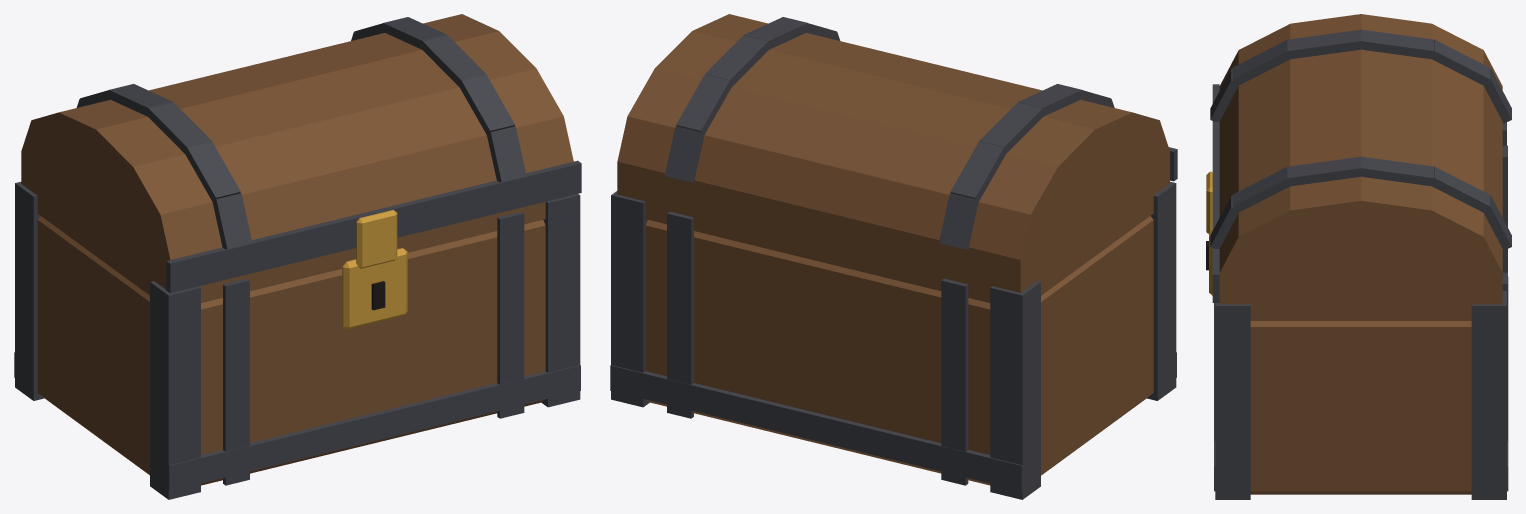
Rendered from env_chest.glb.
3 views of the same model, side by side, from view 1: azimuth 30°, elevation 25°; view 2: azimuth 150°, elevation 25°; view 3: azimuth 270°, elevation 25° (orthographic). The views are drawn at different scales.
Visible parts, largest first — view 1: env_chest, Lid; view 2: env_chest, Lid; view 3: Lid, env_chest.
Part boxes in pixels (x1,y1,x2,y2): env_chest: (14,182,580,499); Lid: (21,14,581,293); env_chest: (610,181,1176,499); Lid: (617,14,1177,292); Lid: (1206,14,1511,304); env_chest: (1206,122,1508,499).
Size of the model in its own units: 1.02 by 0.7635 by 0.6921.
